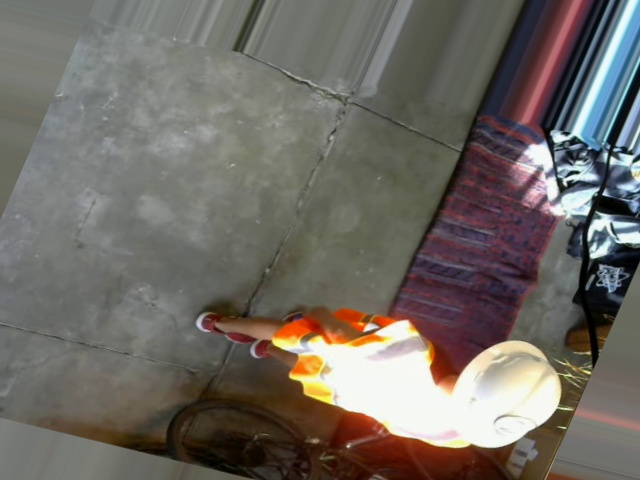two: (489, 410, 539, 442)
